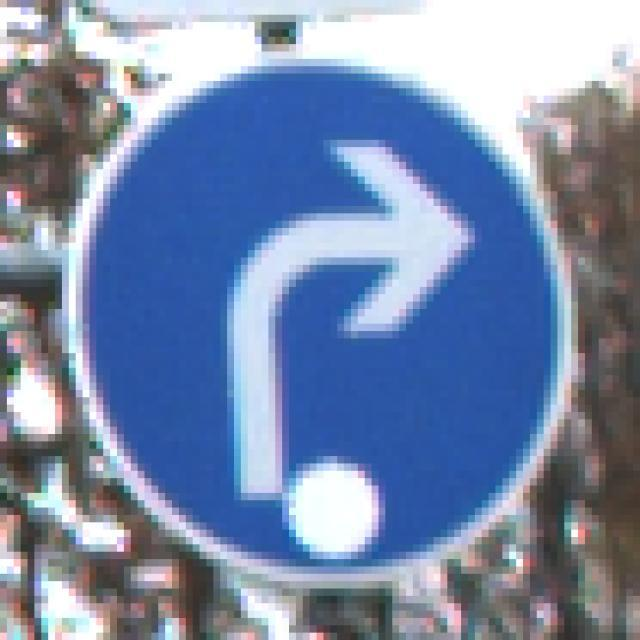compulsary turn right ahead: (71, 62, 577, 573)
